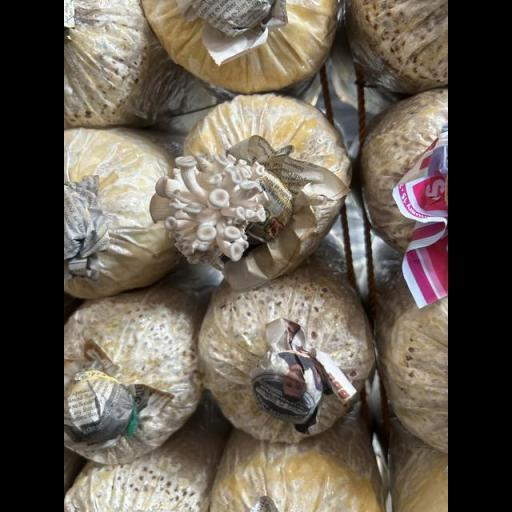White Oyster Mushroom: (146, 149, 271, 268)
